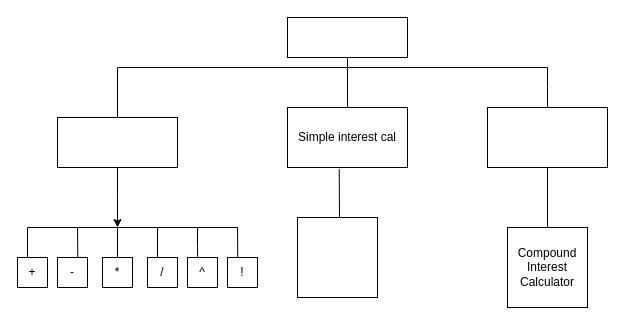
The diagram is 625 pixels wide and 325 high, and some of its shapes have lost their labels. Each missing label, with the box of its shape:
Arithmetic Cal: (56, 116, 178, 168)
Compound interest cal: (486, 106, 608, 168)
Simple Interest Calculator: (296, 216, 378, 298)
Start: (286, 16, 408, 58)
